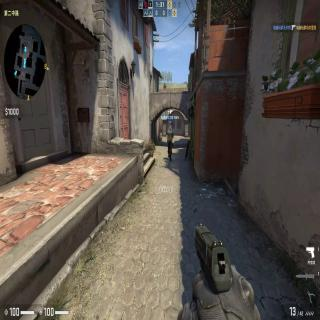CT-Body: (167, 125, 173, 162)
